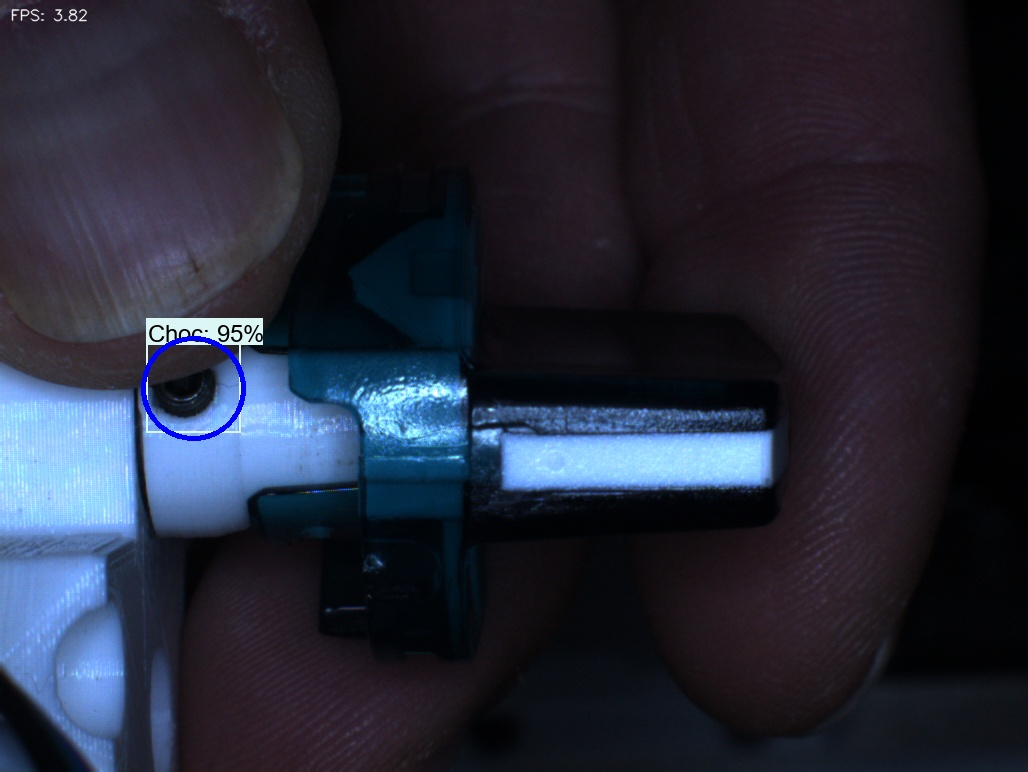DentOk: (318, 246, 386, 322)
